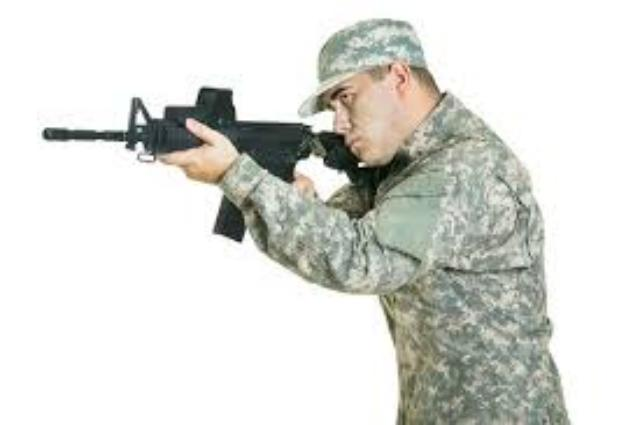other: (307, 8, 535, 424)
